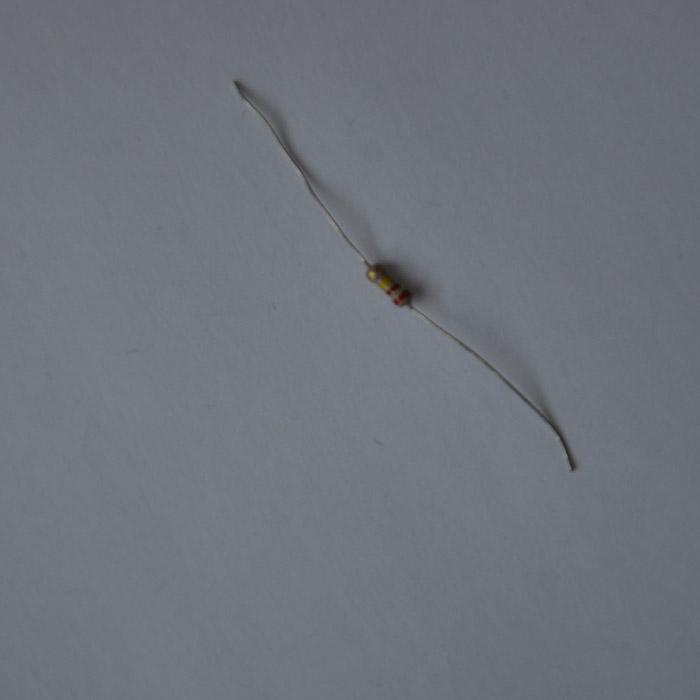resistor: (363, 259, 414, 310)
